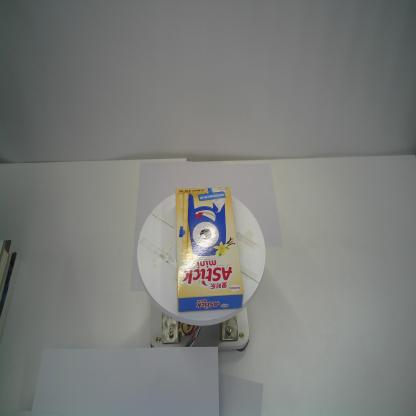Dessert: (176, 187, 244, 312)
